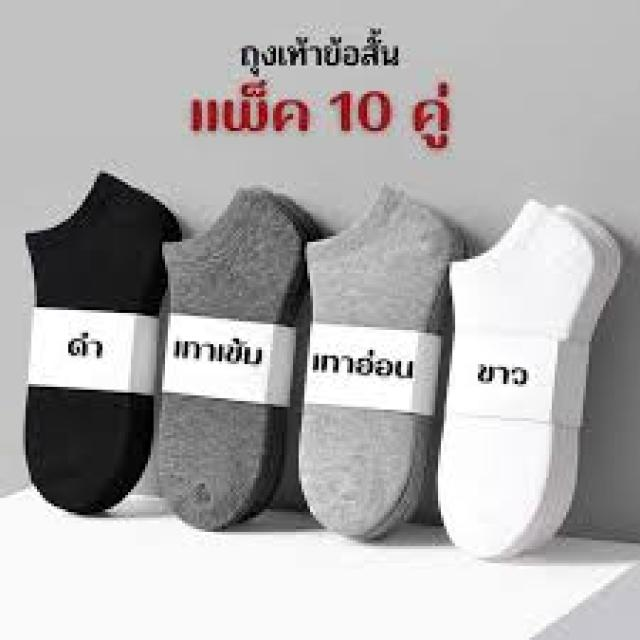sock: (435, 197, 623, 560), (293, 180, 464, 540), (154, 182, 322, 529), (20, 168, 182, 515)
